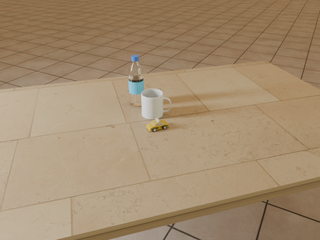bottle: (129, 55, 144, 106)
cup: (141, 89, 171, 119)
toy_car: (146, 118, 169, 132)
